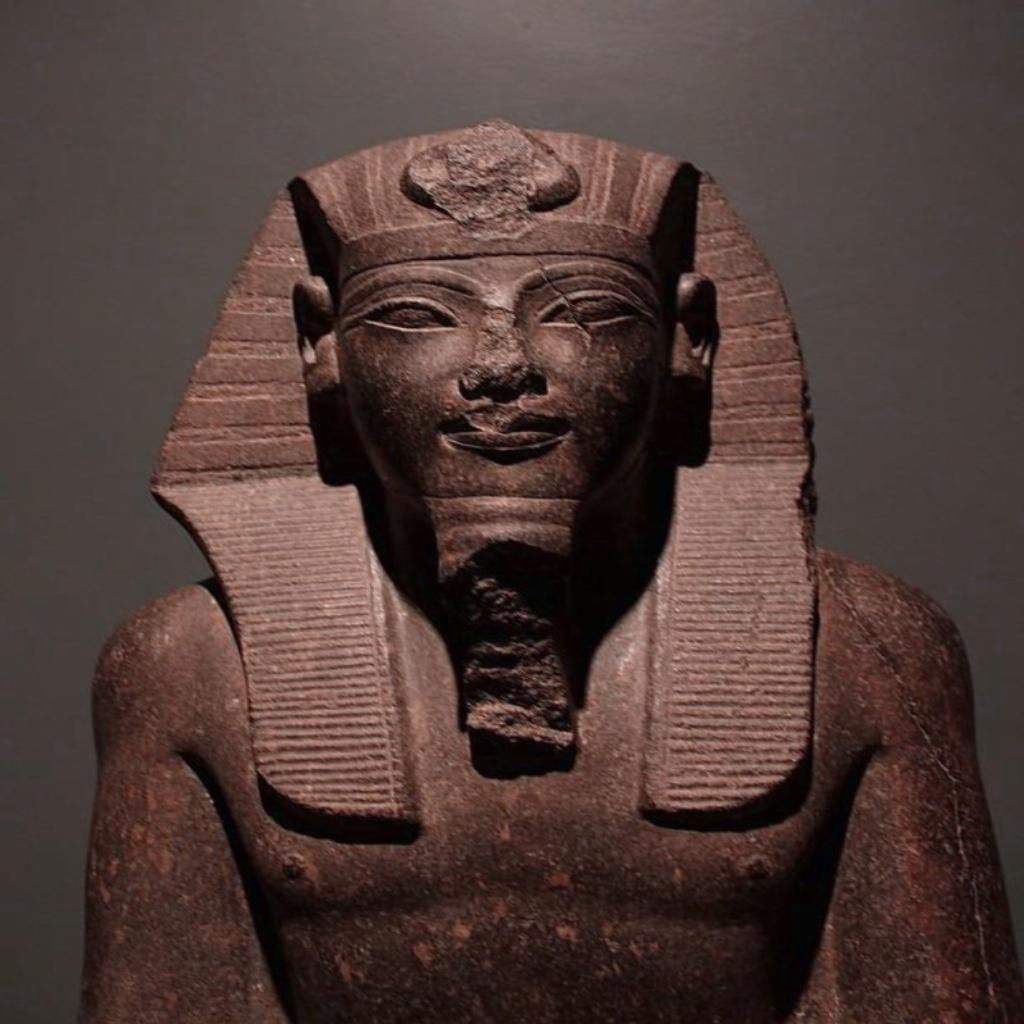Amenhotep III: (72, 115, 1018, 1020)
